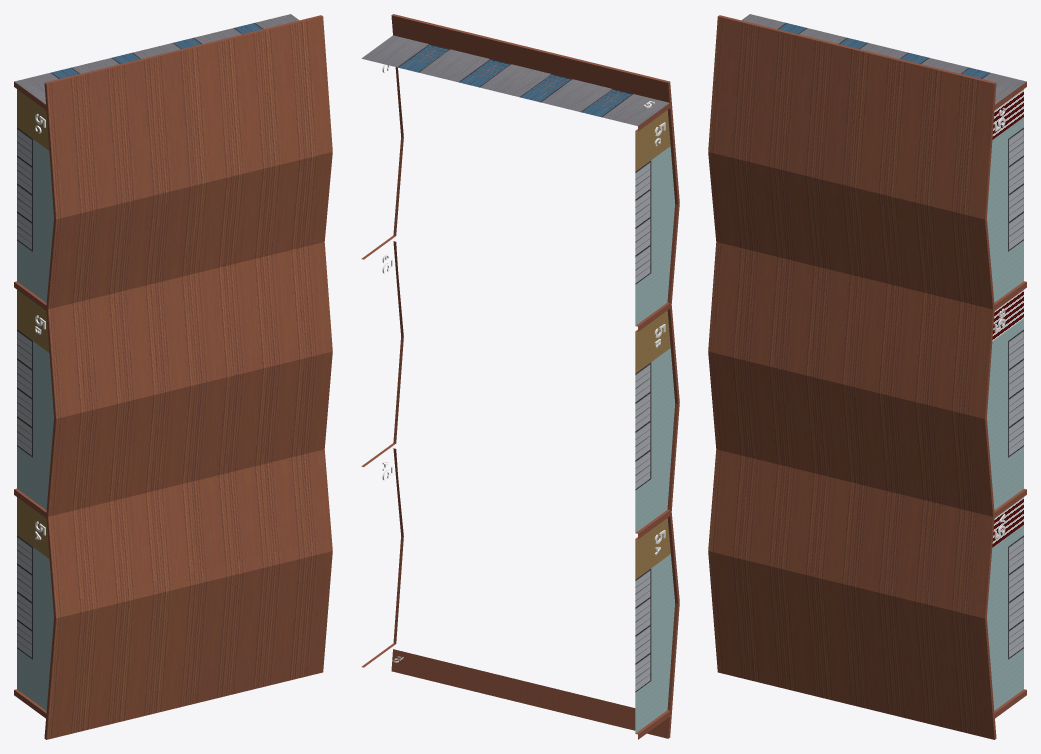
The model's file is sgy_cg5.gltf.
3 renders of one model, left to right at view 1: azimuth 30°, elevation 25°; view 2: azimuth 150°, elevation 25°; view 3: azimuth 330°, elevation 25°, orthographic.
Visible parts, largest first — view 1: 对象007; view 2: 对象007; view 3: 对象007.
Boxes of the visible parts, left/top/right/bottom form: 对象007: left=14, top=14, right=332, bottom=739; 对象007: left=361, top=14, right=679, bottom=739; 对象007: left=708, top=14, right=1026, bottom=739.
Size of the model in its own units: 54.39 by 123 by 14.24.
Materials: 9 (9 with a texture image).
